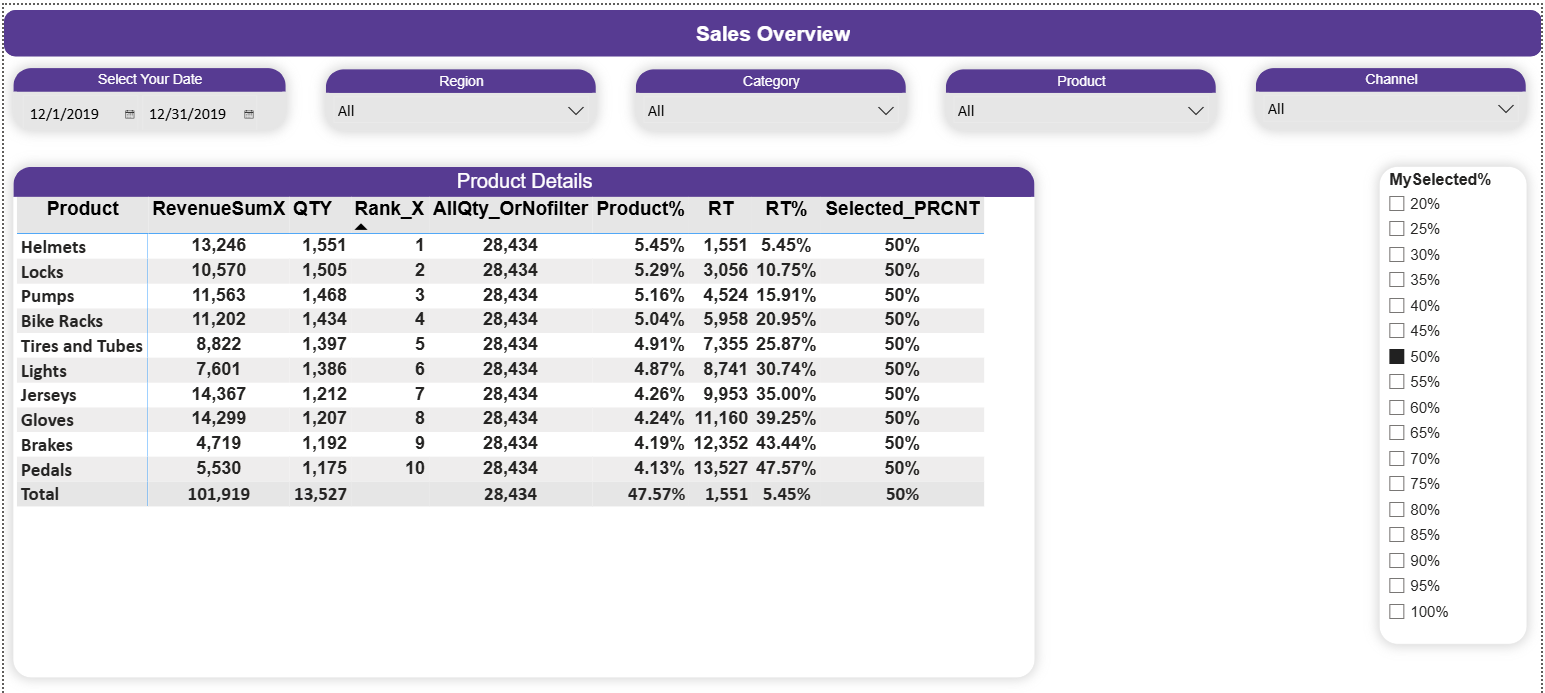

The dashboard page shown, as its layout file describes it:
{"tool":"powerbi","page":{"name":"Product Performance","canvas":[2050,920],"ordinal":3},"visuals":[{"type":"pivotTable","title":"Product Details","fields":{"Rows":["Dim_Product.Product"],"Values":["MeasureTable.RevenueSumX","MeasureTable.QTY","MyDaxT.Rank_X","MyDaxT.AllQty_OrNofilter","MyDaxT.Product%","MyDaxT.RT","MyDaxT.RT%","MyDaxT.Selected_PRCNT"]},"box":[11.7,215.2,1363.4,682.7],"z":0},{"type":"shape","box":[0,7.1,2050.8,62],"z":1000},{"type":"slicer","title":"Region","fields":{"Values":["Dim_Region.Region"]},"box":[428.6,85.1,361.7,83],"z":2000},{"type":"slicer","title":"Product","fields":{"Values":["Dim_Product.Product"]},"box":[1254.9,85.1,361.7,83],"z":3000},{"type":"slicer","title":"Category","fields":{"Values":["Dim_Product.Category"]},"box":[841.8,85.1,361.7,83],"z":4000},{"type":"slicer","title":"Channel","fields":{"Values":["Channels.Channel"]},"box":[1668.1,84.1,361.7,83],"z":5000},{"type":"slicer","title":"Select Your Date","fields":{"Values":["Calender.Date"]},"box":[12.3,83.5,364.9,84.2],"z":6000},{"type":"slicer","fields":{"Values":["Genarat_prcntT.MySelected%"]},"box":[1832.9,215.2,197.6,637.7],"z":7000}]}

Visuals, with their boxes in screenshot pixels (x1, y1, x2, y2), scaled from the page's 2050x920 canvas onto the 1545x693 screenshot:
"Product Details" pivotTable: [9,162,1036,676]
shape: [0,5,1544,52]
"Region" slicer: [323,64,596,127]
"Product" slicer: [946,64,1218,127]
"Category" slicer: [634,64,907,127]
"Channel" slicer: [1257,63,1530,126]
"Select Your Date" slicer: [9,63,284,126]
slicer - Genarat_prcntT.MySelected%: [1381,162,1530,642]
